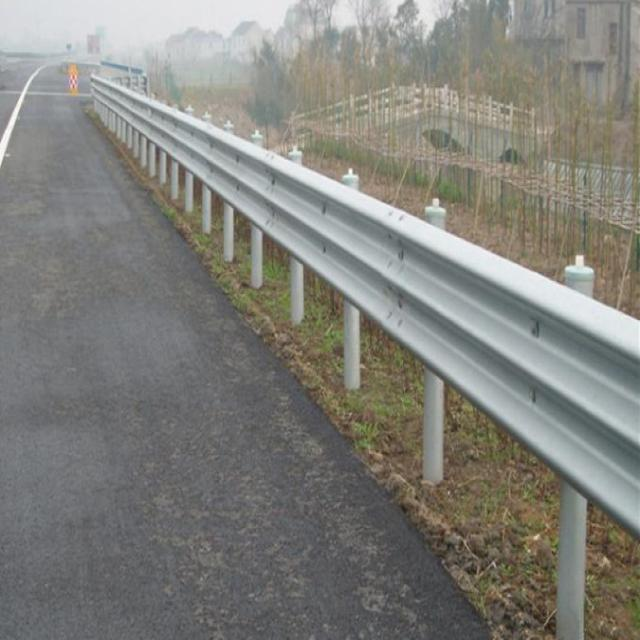Guard rail: (91, 75, 640, 536)
